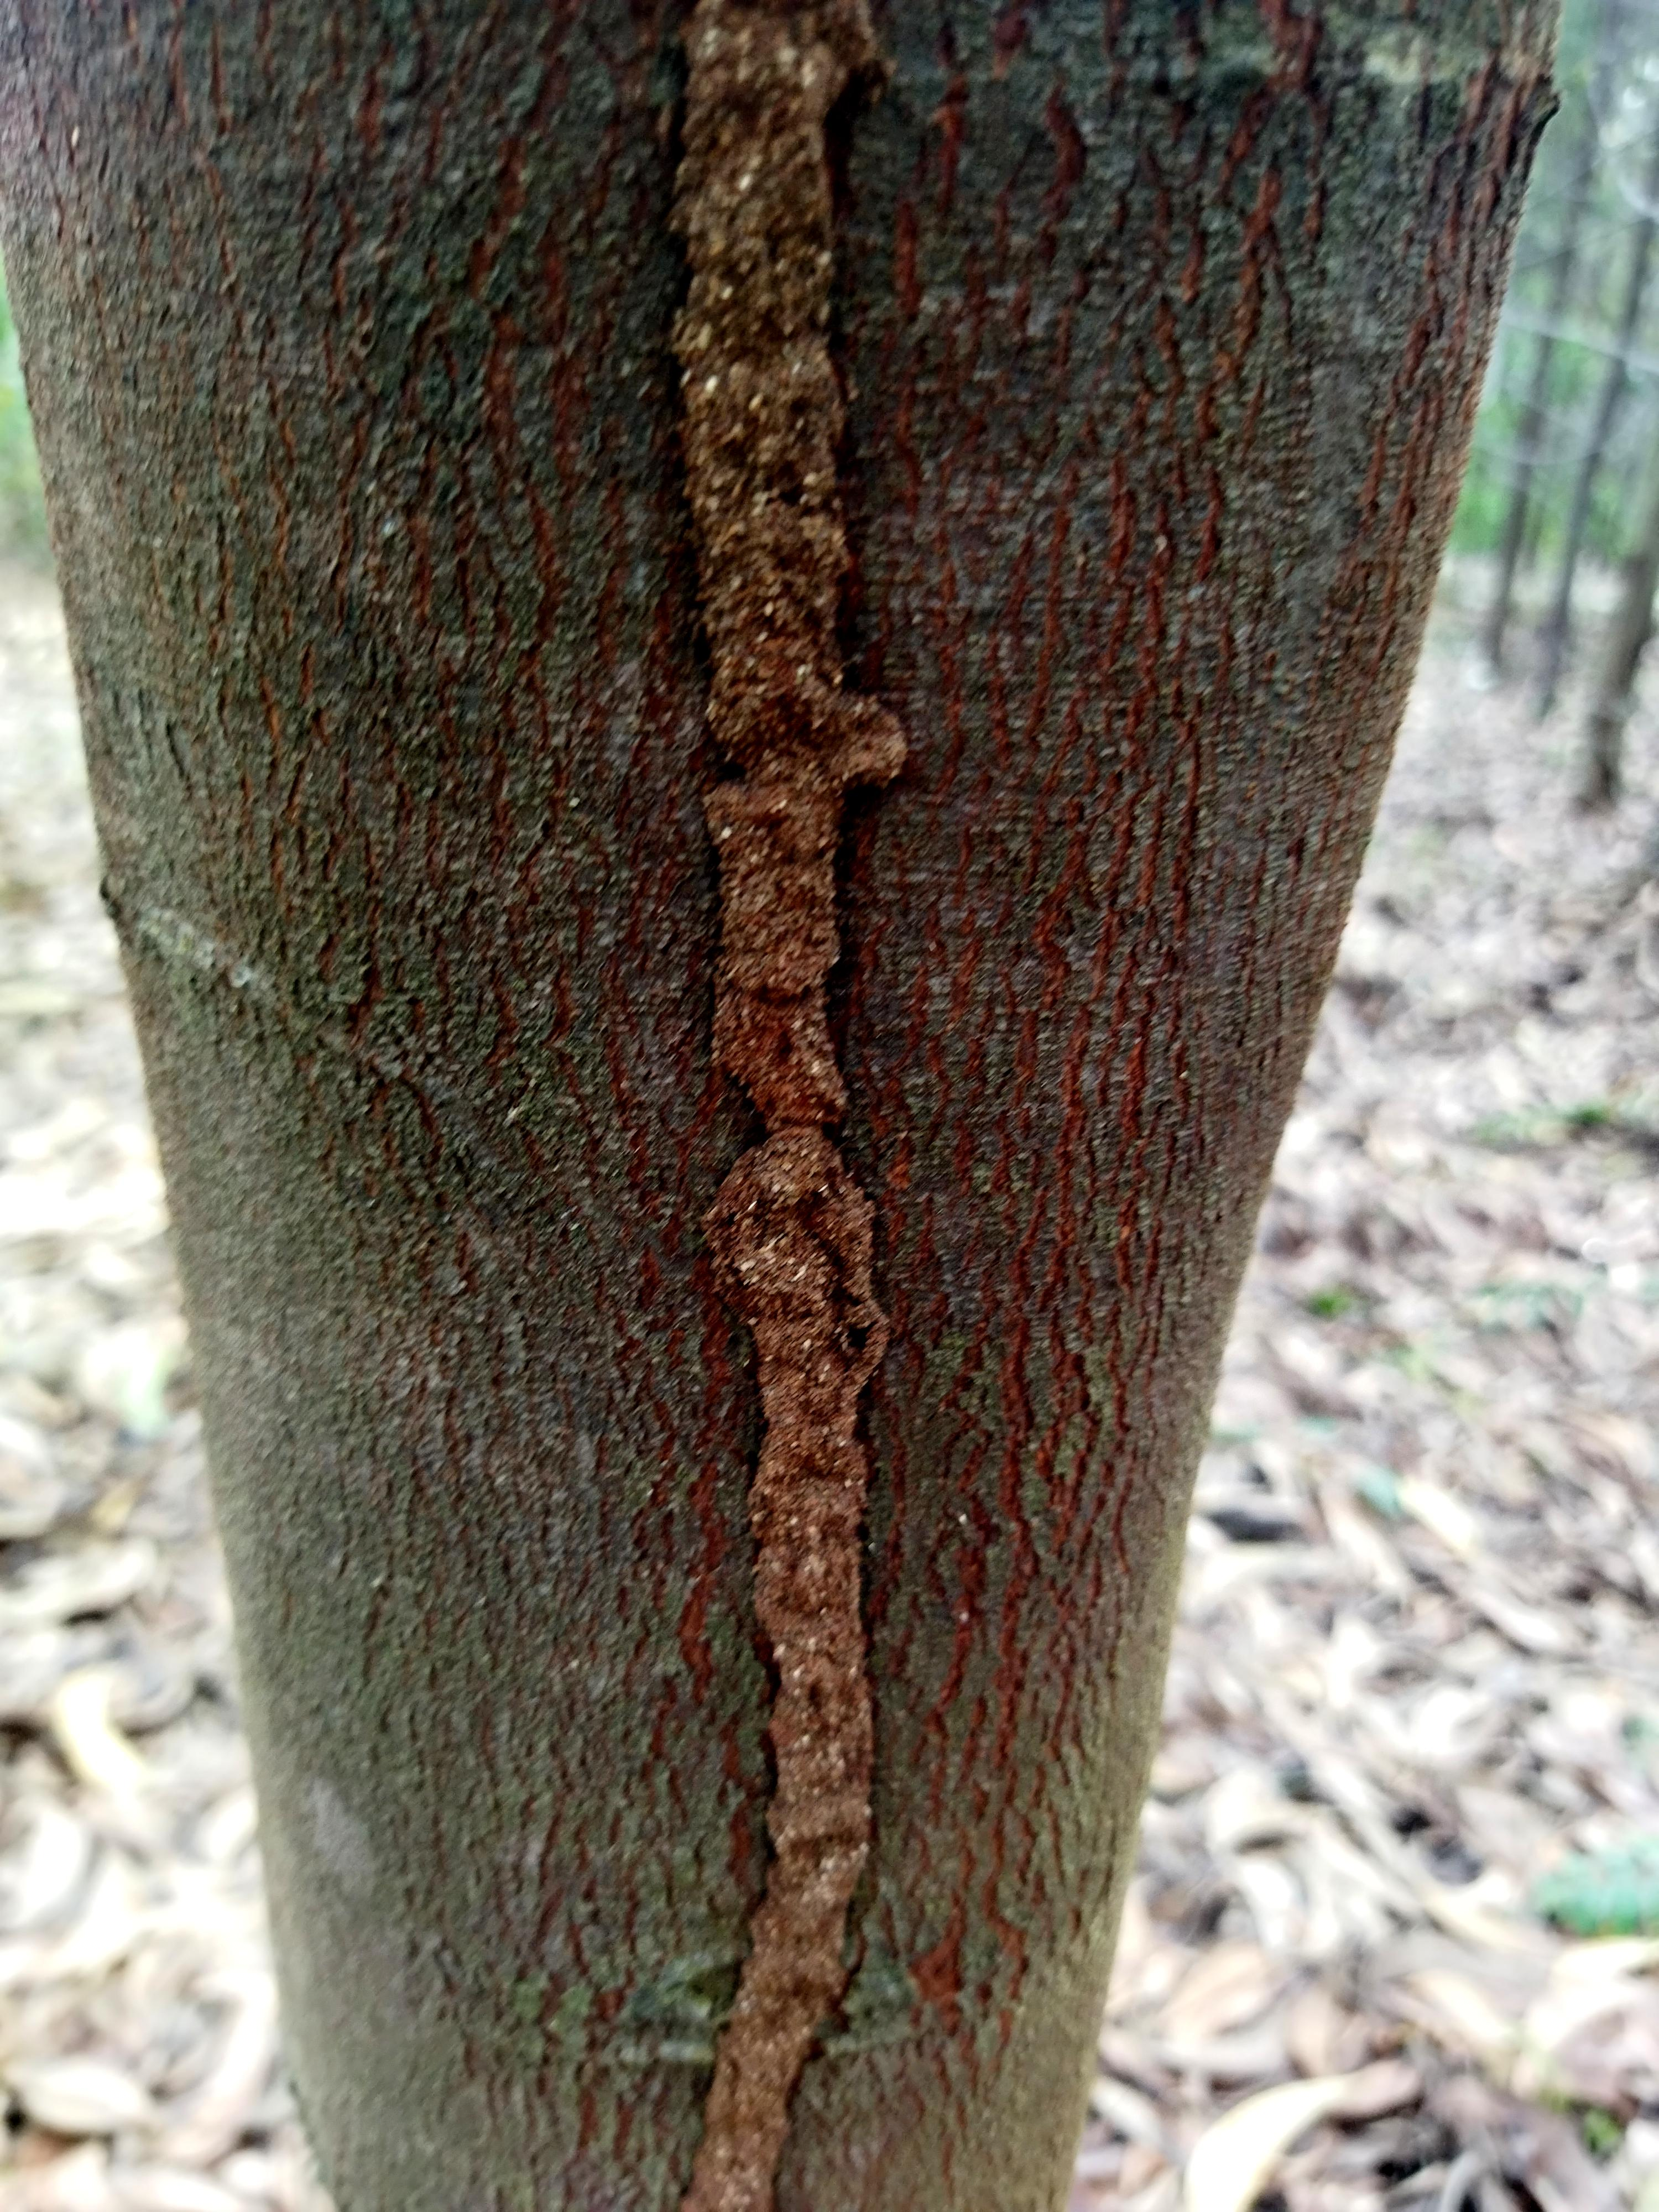Termite - Nest: (610, 0, 1000, 2212)
